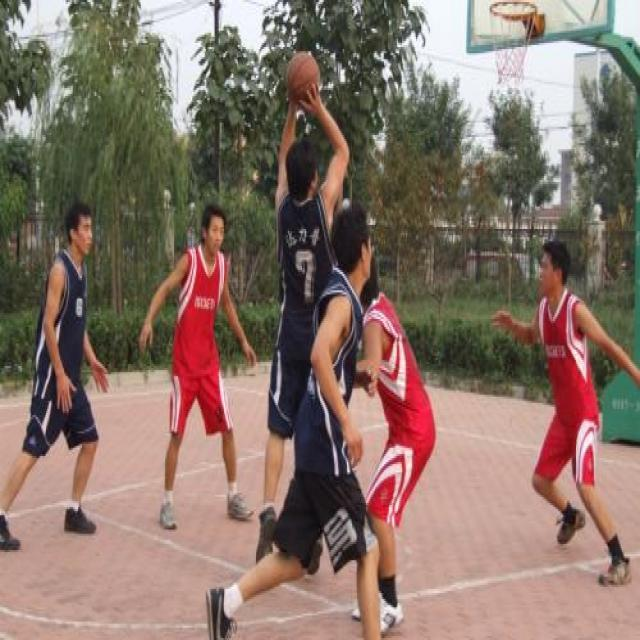rim: (288, 49, 320, 100)
